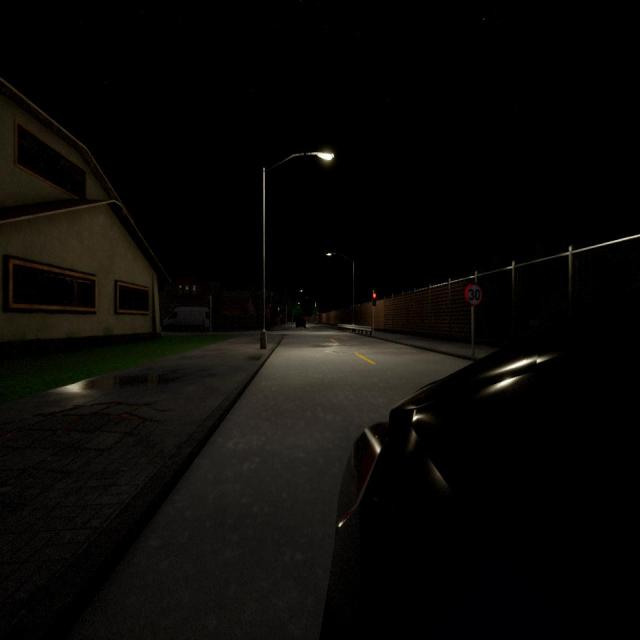Traffic_Signs: (465, 283, 483, 304)
Vehicle: (321, 302, 640, 640), (295, 317, 307, 329)
traffic_light: (372, 293, 376, 306)
